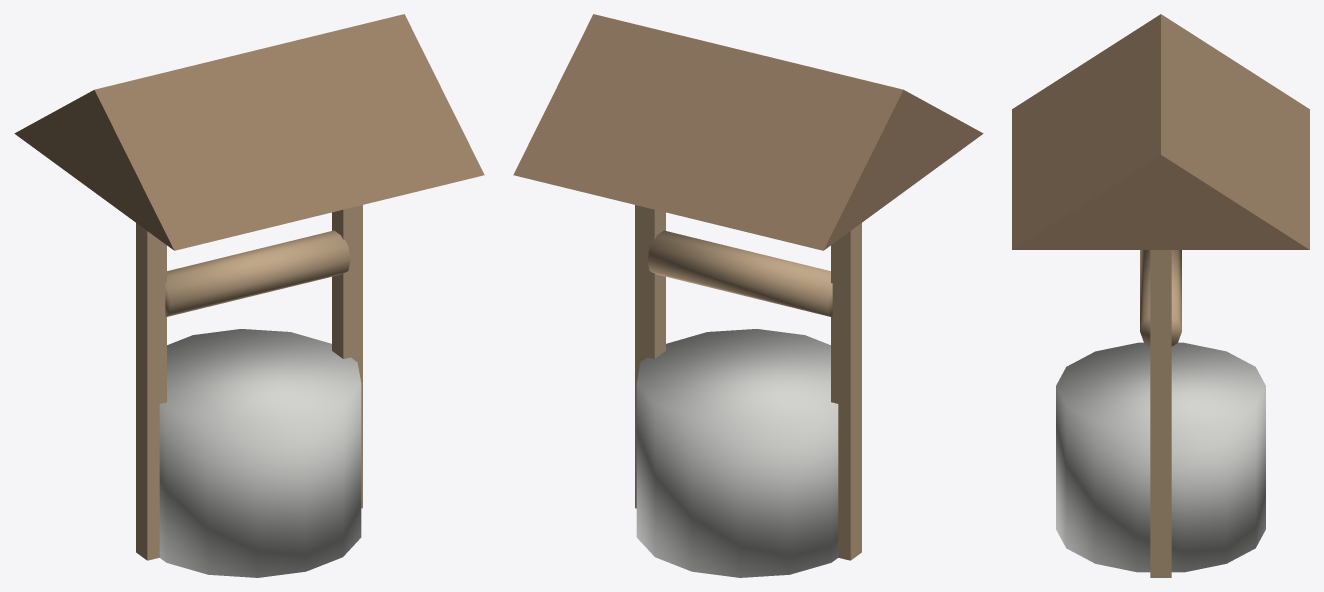
The model's file is well.glb.
3 renders of one model, left to right at view 1: azimuth 30°, elevation 25°; view 2: azimuth 150°, elevation 25°; view 3: azimuth 270°, elevation 25°, orthographic. The views are drawn at different scales.
Parts seen in each view (by area): view 1: well; view 2: well; view 3: well.
Part boxes in pixels (left/top/right/bottom): well: left=14, top=14, right=484, bottom=577; well: left=513, top=14, right=983, bottom=577; well: left=1012, top=14, right=1309, bottom=577.
Size of what is drawn, in the model's own units: 1.9 by 2.8 by 1.7.
